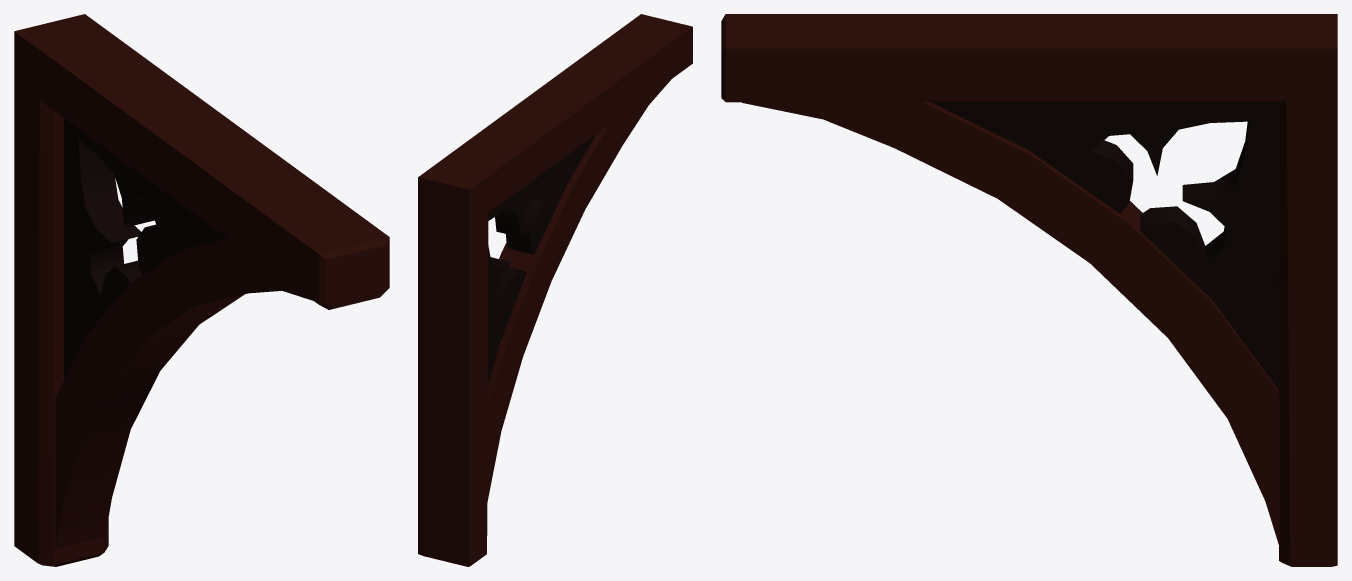
Rendered from Bracket.FBX.
The picture shows the model from 3 angles, left to right: view 1: azimuth 30°, elevation 25°; view 2: azimuth 150°, elevation 25°; view 3: azimuth 270°, elevation 25°; orthographic projection. The views are drawn at different scales.
Visible parts, largest first — view 1: Bracket; view 2: Bracket; view 3: Bracket.
Part boxes in pixels (bbox=[...]): Bracket: bbox=[14, 14, 389, 566]; Bracket: bbox=[418, 14, 692, 566]; Bracket: bbox=[721, 14, 1337, 566].
Size of the model in its own units: 3.94 by 27.61 by 29.6.
